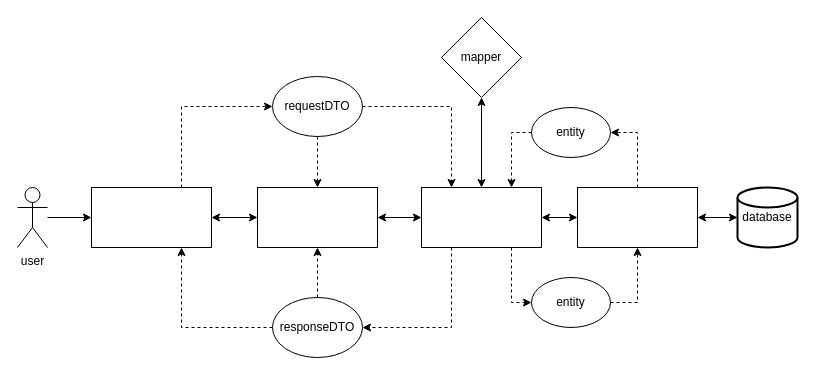
Image size: 816x375. Some labels were removed from this diagram. Here are the shapes that lost their labels. From the top down, the centre of each, then its label:
At (151,217): "controller".
At (317,217): "usecase".
At (481,217): "service".
At (637,217): "repository".
